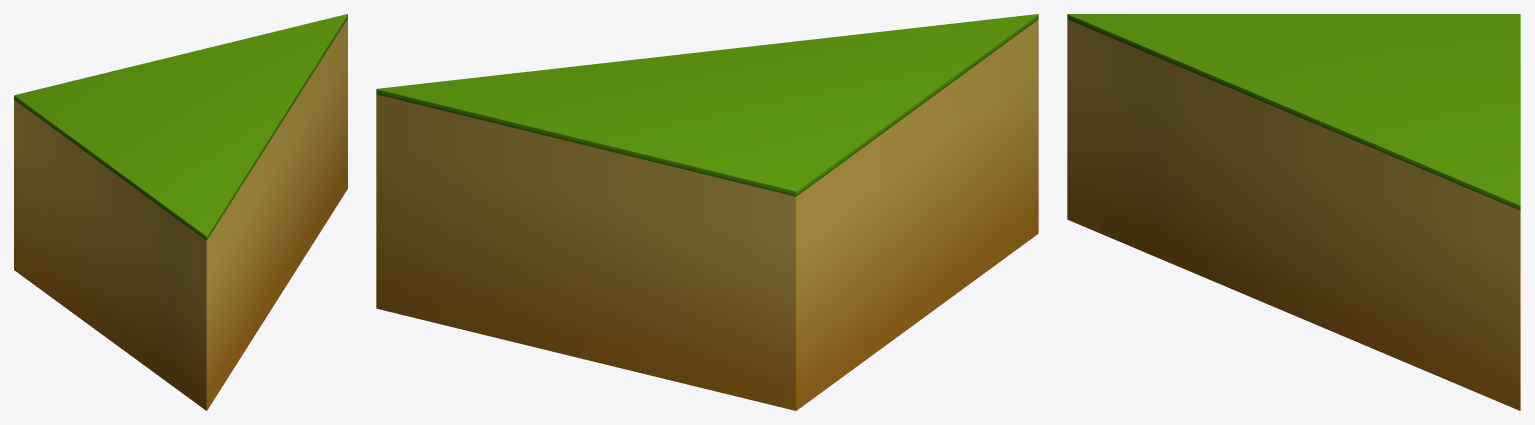
The model's file is LM100TRI.fbx.
3 views of the same model, side by side, from view 1: azimuth 30°, elevation 25°; view 2: azimuth 150°, elevation 25°; view 3: azimuth 270°, elevation 25° (orthographic). The views are drawn at different scales.
Parts seen in each view (by area): view 1: LOD0; view 2: LOD0; view 3: LOD0.
Boxes of the visible parts, x1,y1,x2,y2 form: LOD0: (14, 14, 347, 410); LOD0: (376, 14, 1038, 410); LOD0: (1067, 14, 1520, 410).
Size of what is drawn, in the model's own units: 10000 by 10000 by 5000.
